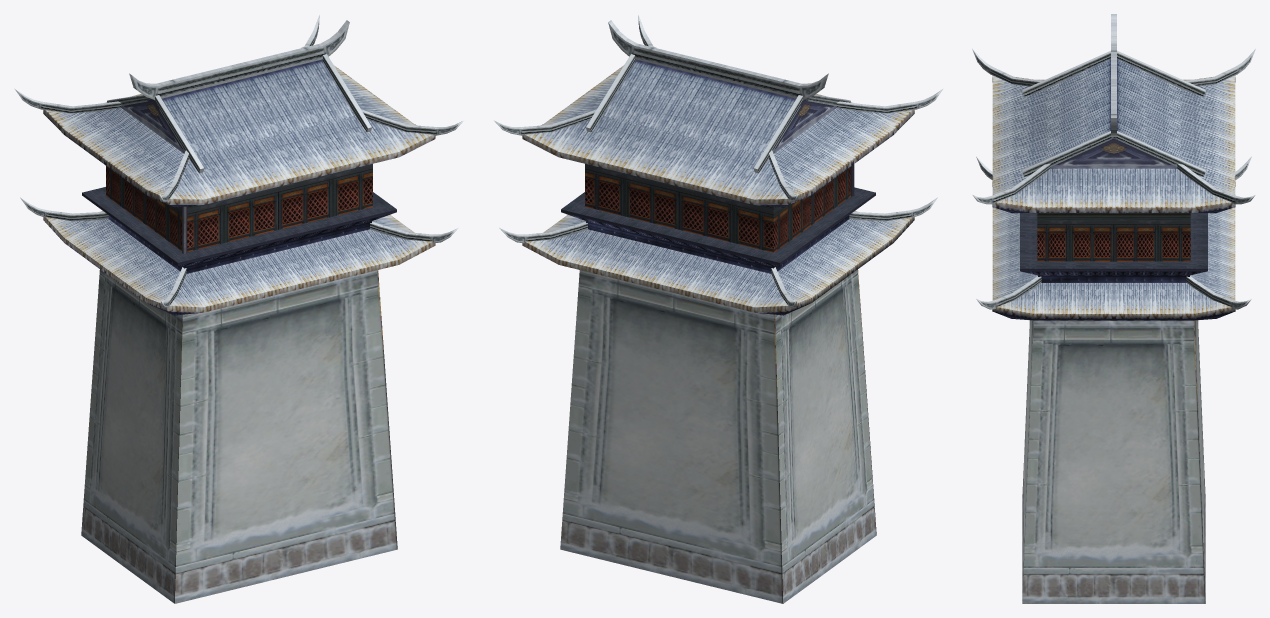
File: jz_louge_04.FBX
3 renders of one model, left to right at view 1: azimuth 30°, elevation 25°; view 2: azimuth 150°, elevation 25°; view 3: azimuth 270°, elevation 25°, orthographic. The views are drawn at different scales.
Visible parts, largest first — view 1: jz_louge_04; view 2: jz_louge_04; view 3: jz_louge_04.
Part boxes in pixels (x1,y1,x2,y2): jz_louge_04: (15, 15, 463, 603); jz_louge_04: (494, 15, 942, 603); jz_louge_04: (972, 14, 1255, 603).
Bounding box in the file's own units: 1694 × 2623 × 1393.
